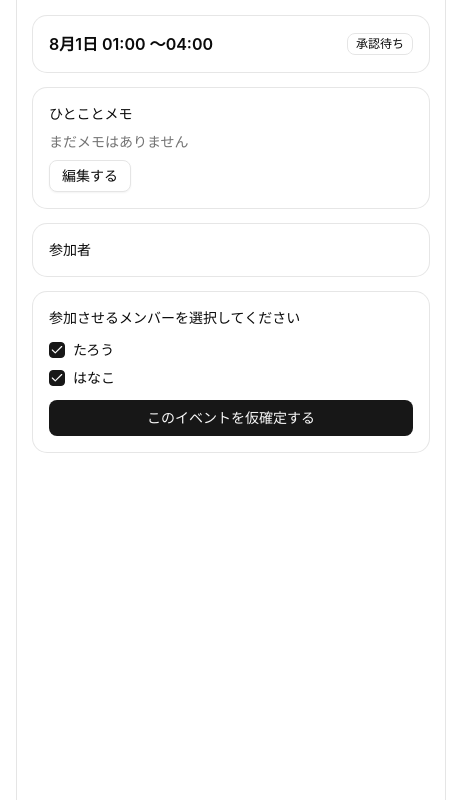
EventDetailPage › PENDING_APPROVAL（候補メンバーの選択と仮確定） › 候補メンバーは初期状態で全員選択済みで、全員の選択を外すと仮確定ボタンが無効になる
The image size is (463, 800).
expect the checkbox named "はなこ" next to "はなこ" is checked: met, box 49,370 -> 65,386
expect the button "このイベントを仮確定する" is enabled: met, box 49,400 -> 413,436
Click the checkbox named "たろう" next to "たろう": (57, 350) 49,342 -> 65,358
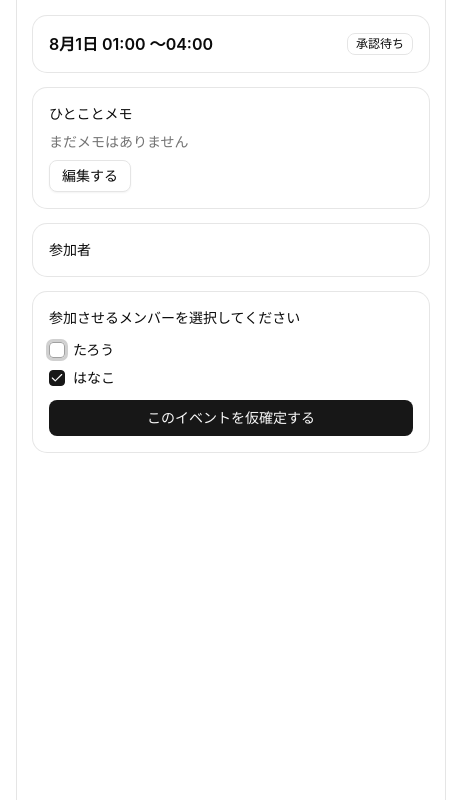
Click the checkbox named "はなこ" next to "はなこ": (57, 378) 49,370 -> 65,386
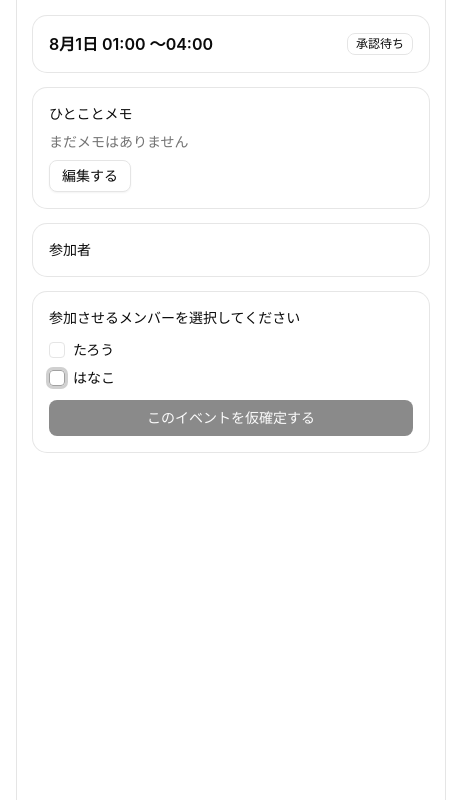
expect the button "このイベントを仮確定する" is disabled: met, box 49,400 -> 413,436
